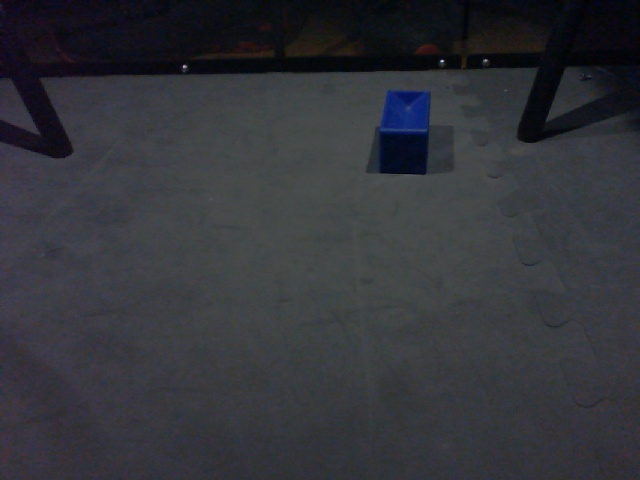BlueSample: (376, 88, 434, 173)
